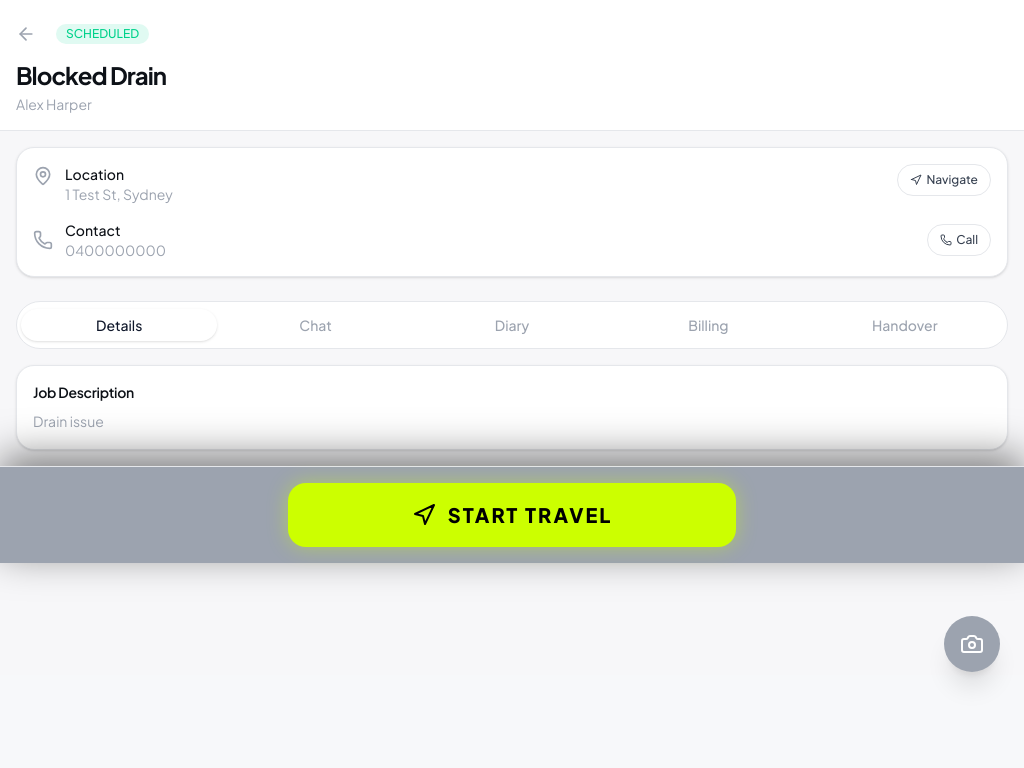
Tradie JobDetailView › routes billing and handover actions into the full CRM instead of showing dead-end placeholders
Click the tab "Billing" at x=708, y=325, box [610, 309, 807, 341]
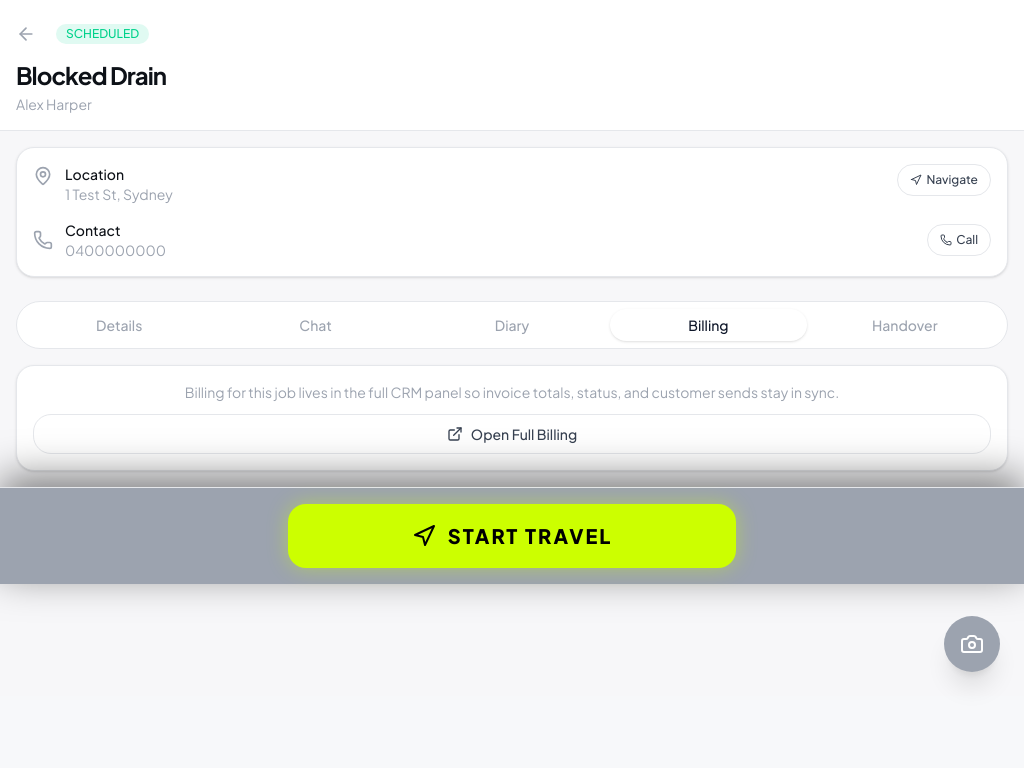
Click the tab "Handover" at x=905, y=325, box [807, 309, 1003, 341]
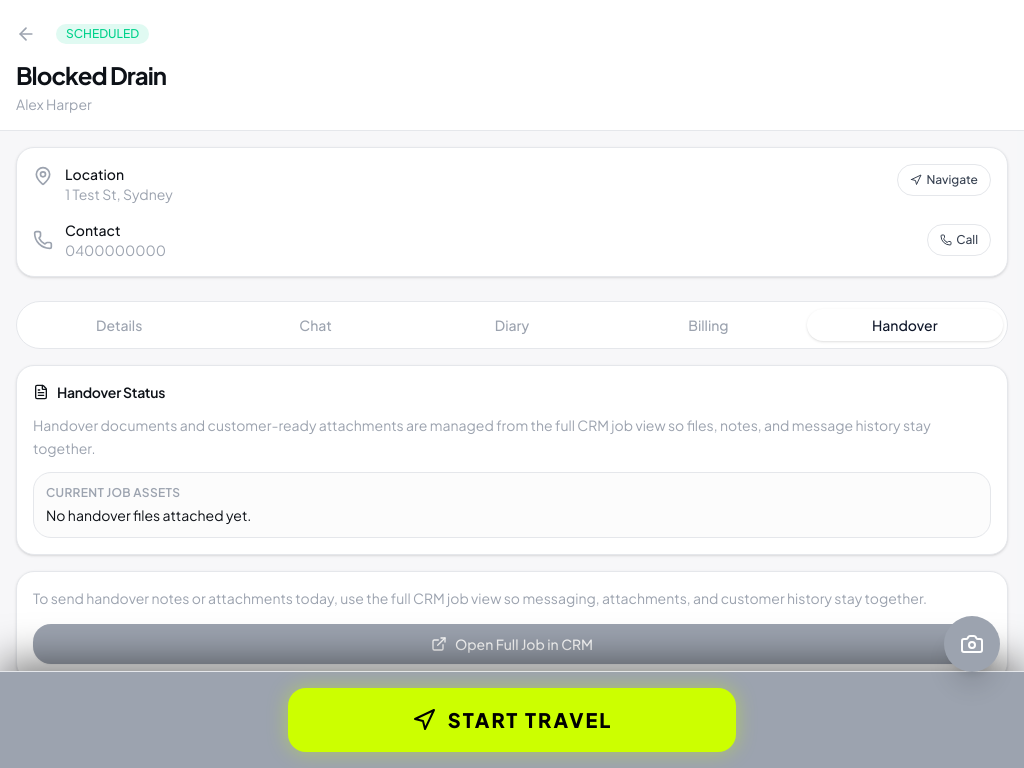
expect the text "handover documents and customer-ready attachments are managed from the full crm job view" is shown: met, box [33, 416, 931, 457]
